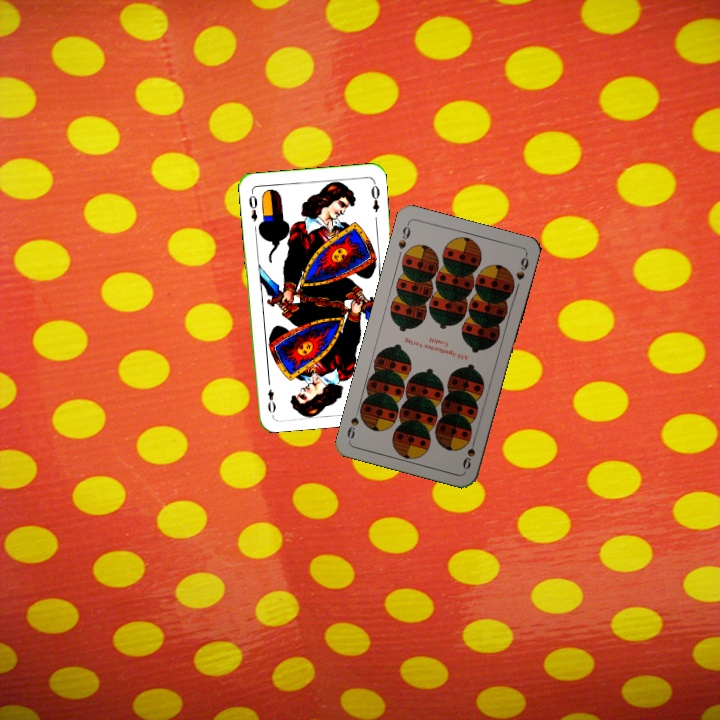EO: (244, 188, 260, 224)
S9: (459, 433, 479, 472), (394, 219, 413, 252)
